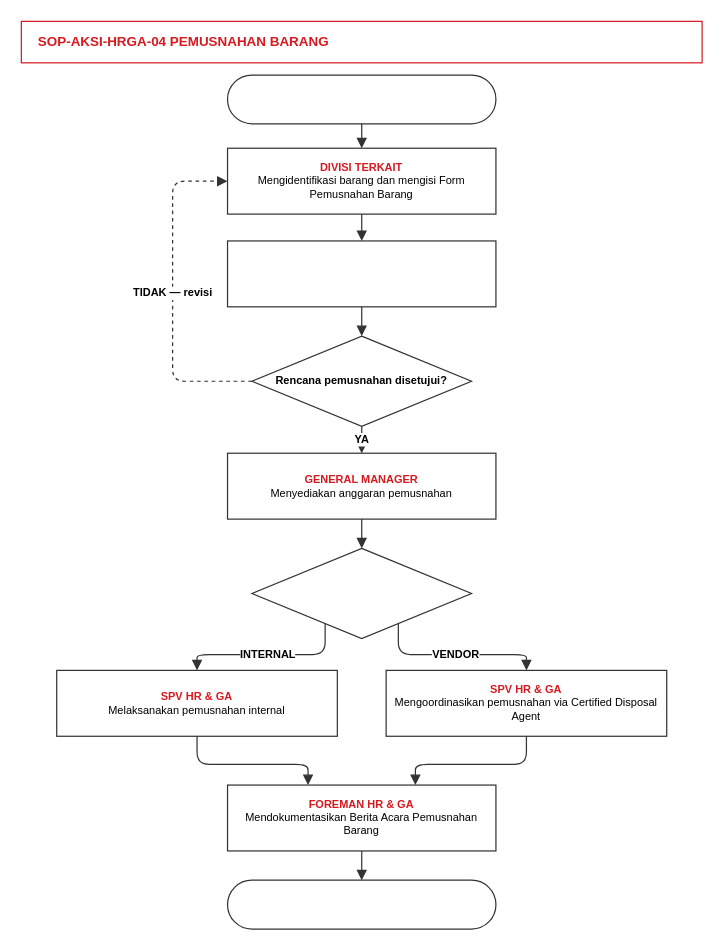
Image size: 723x950. Some labels were removed from this diagram. The box of each missing label's shape, as (x1, y1, x2, y2) in pixels:
MULAI — barang perlu dimusnahkan: (226, 74, 496, 124)
Pemusnahan internal atau vendor?: (251, 547, 472, 639)
SELESAI: (226, 879, 496, 929)
SPV HR & GA Memverifikasi dan mengoordinasikan rencana pemusnahan: (226, 240, 496, 307)
